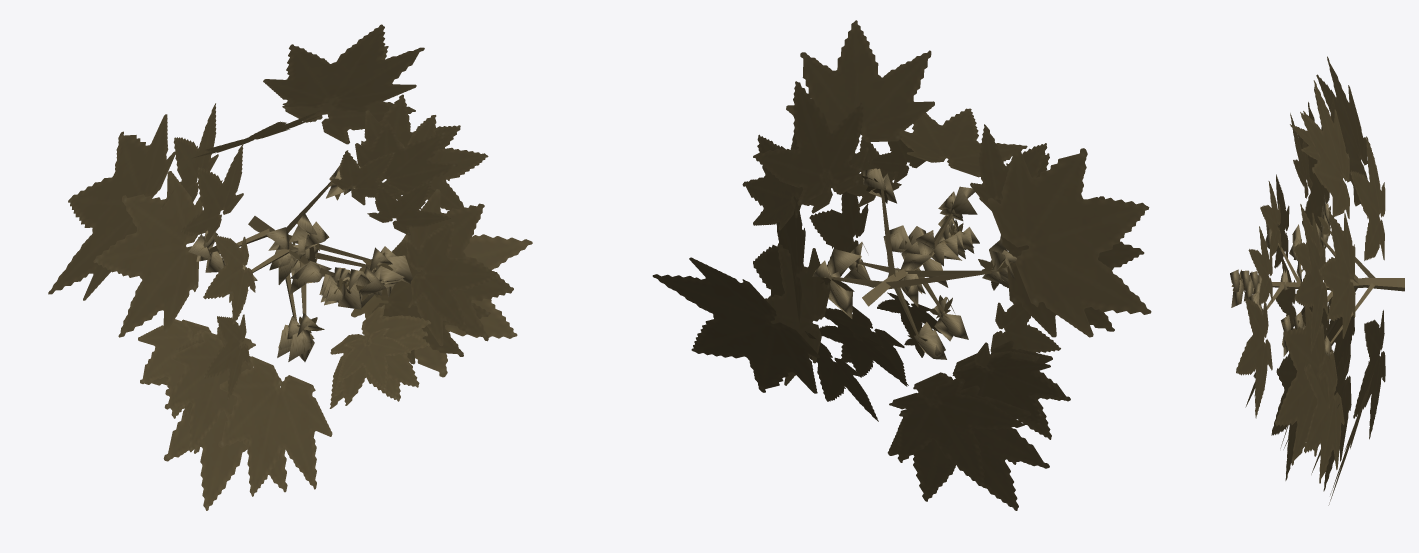
The model's file is p_male_kush_flowering_c4_cards.obj.
3 views of the same model, side by side, from view 1: azimuth 30°, elevation 25°; view 2: azimuth 150°, elevation 25°; view 3: azimuth 270°, elevation 25° (orthographic). The views are drawn at different scales.
Bounding box in the file's own units: 1.63 × 1.4 × 0.466.
1 material, 1 textured.
